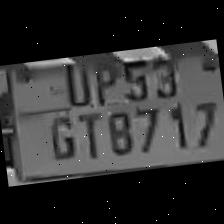1: (160, 97, 190, 152)
3: (144, 43, 181, 100)
5: (114, 47, 153, 102)
7: (185, 93, 221, 150), (129, 98, 165, 154)
8: (98, 102, 134, 157)
G: (41, 108, 80, 163)
P: (86, 50, 120, 106)
T: (73, 105, 106, 159)
U: (54, 54, 94, 109)
